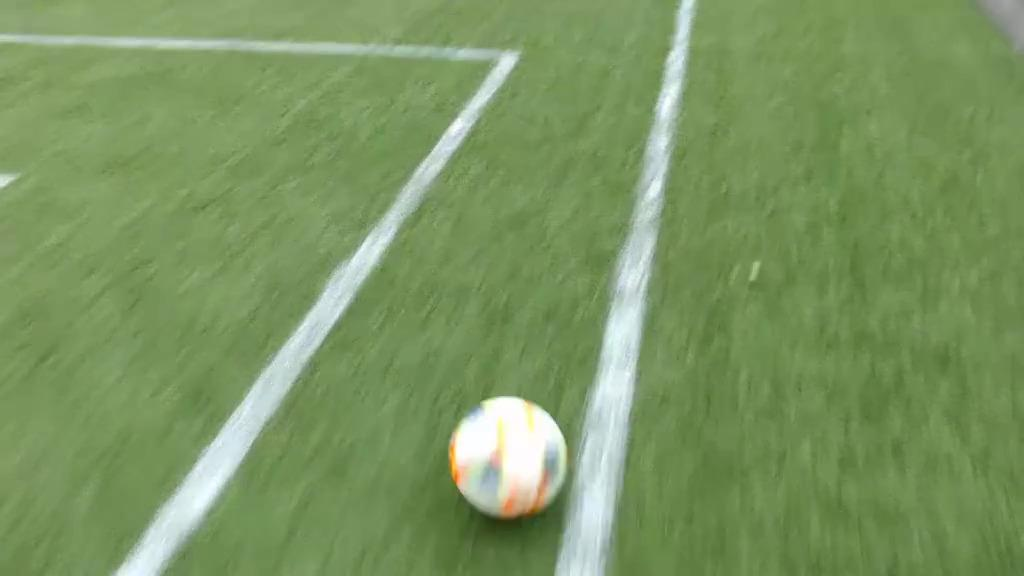ball: (449, 396, 569, 521)
